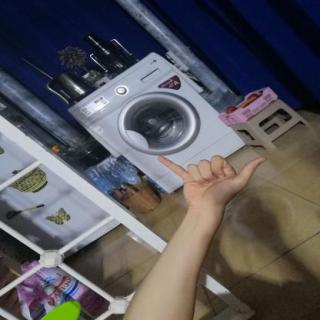YA: (147, 148, 275, 215)
